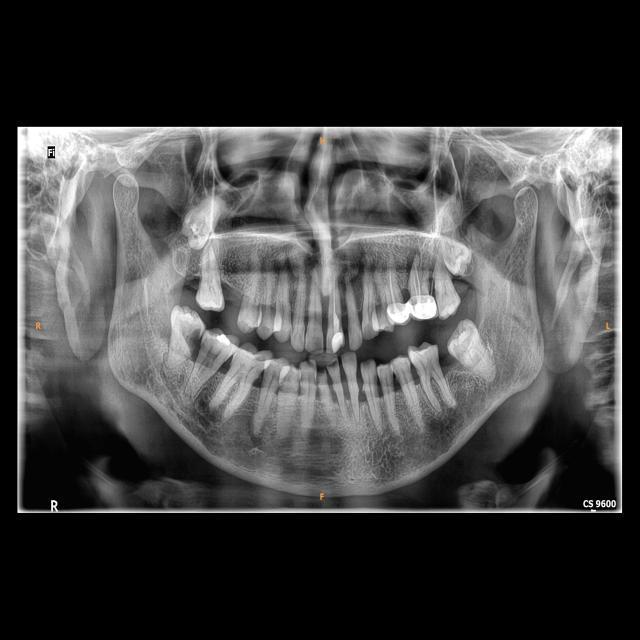dentin-curugu: (183, 326, 201, 351)
dolgu: (328, 329, 345, 354)
kanal-tedavisi: (385, 263, 400, 305), (410, 256, 426, 294), (329, 276, 340, 329)
kaplama: (406, 299, 438, 320), (386, 302, 410, 322)
